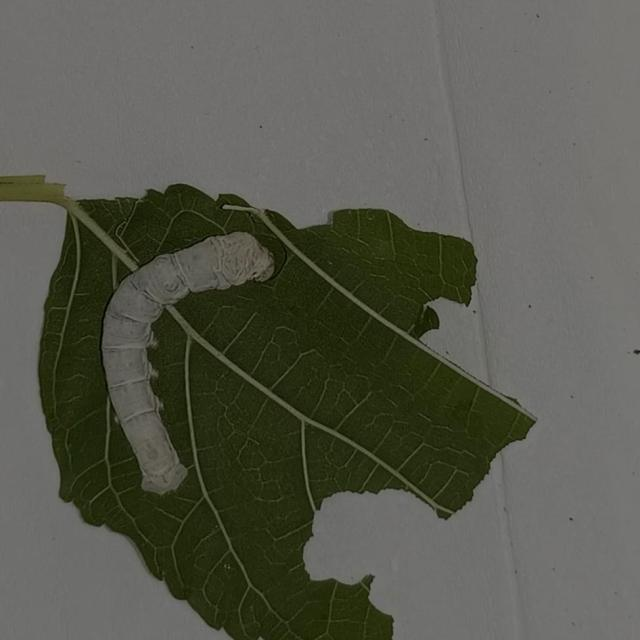Healthy: (97, 220, 289, 504)
